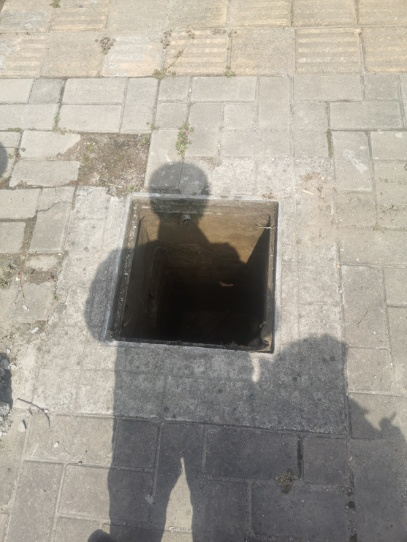lose: (100, 191, 284, 356)
